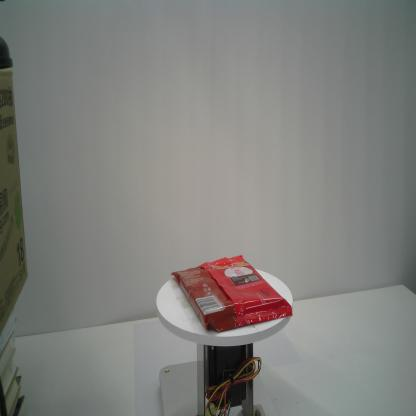Dessert: (171, 255, 293, 333)
